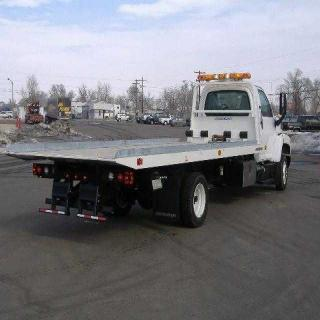Towing_truck: (8, 68, 292, 228)
